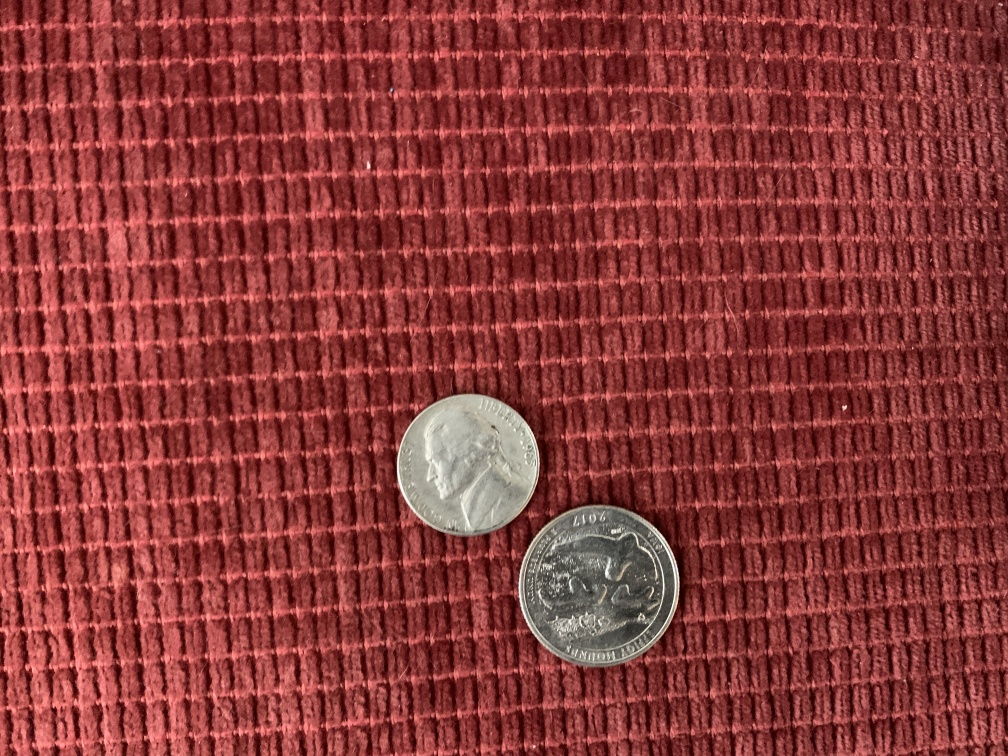nickel: (393, 391, 543, 539)
quarter: (514, 501, 683, 672)
